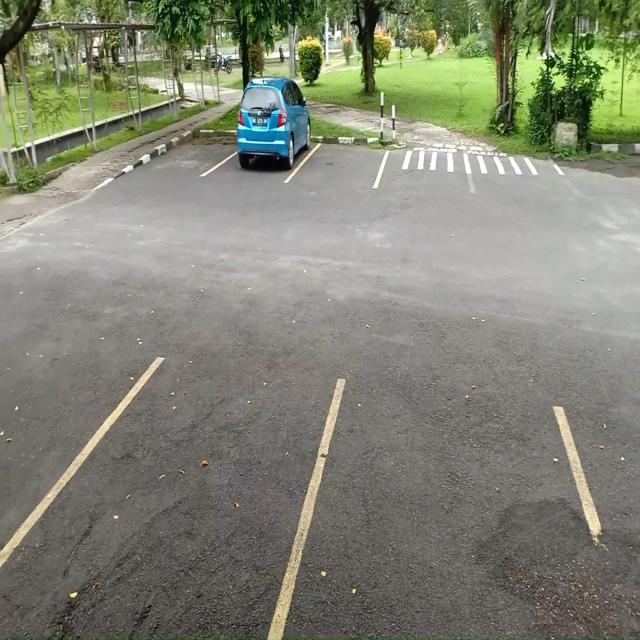empty: (298, 391, 595, 640), (44, 388, 298, 640), (302, 135, 390, 187), (168, 132, 225, 180)
occupied: (227, 110, 308, 177)
